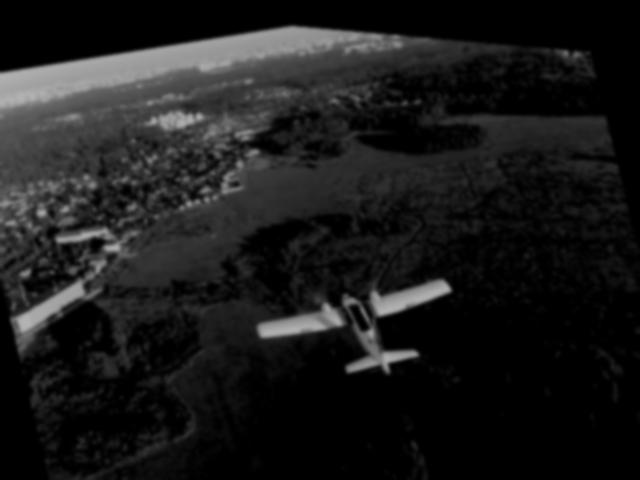hedef: (248, 246, 480, 408)
